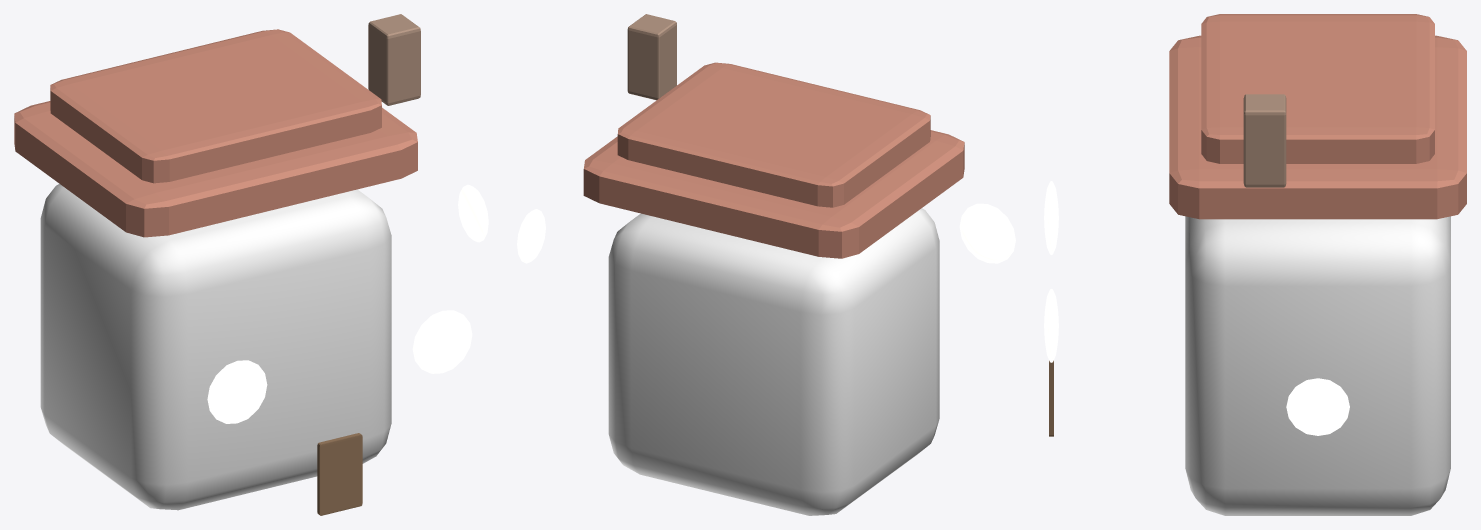
File: cottage_01.glb
3 views of the same model, side by side, from view 1: azimuth 30°, elevation 25°; view 2: azimuth 150°, elevation 25°; view 3: azimuth 270°, elevation 25° (orthographic). The views are drawn at different scales.
Parts seen in each view (by area): view 1: CottageBody, RoofPeak, CottageRoof, Chimney, Door, Window_1.2, Window_-1.2, SideWindow; view 2: CottageBody, RoofPeak, CottageRoof, Chimney, Window_-1.2, SideWindow; view 3: CottageBody, RoofPeak, CottageRoof, Chimney, SideWindow, Window_-1.2, Window_1.2.
Part boxes in pixels (x1,y1,x2,y2): CottageBody: (40, 184, 391, 510); RoofPeak: (50, 29, 381, 183); CottageRoof: (14, 101, 417, 237); Chimney: (368, 14, 420, 105); Door: (317, 433, 362, 515); Window_1.2: (412, 310, 472, 373); Window_-1.2: (207, 360, 267, 423); SideWindow: (458, 184, 488, 242); CottageBody: (608, 208, 939, 515); RoofPeak: (617, 62, 930, 207); CottageRoof: (583, 130, 964, 258); Chimney: (627, 14, 676, 100); Window_-1.2: (959, 203, 1015, 263); SideWindow: (517, 209, 545, 263); CottageBody: (1185, 216, 1450, 515); RoofPeak: (1201, 14, 1434, 163); CottageRoof: (1169, 35, 1466, 219); Chimney: (1243, 94, 1286, 187); SideWindow: (1286, 378, 1349, 435); Window_-1.2: (1044, 181, 1058, 254); Window_1.2: (1044, 289, 1058, 362).
Bounding box in the file's own units: 4.77 × 4.6 × 3.98.
